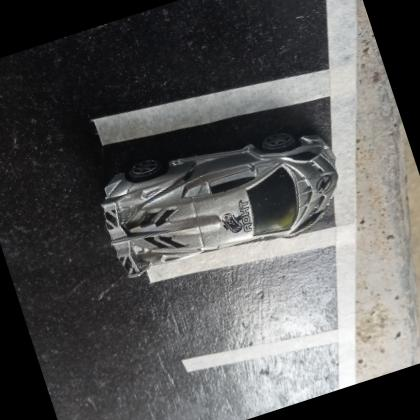Car: (100, 132, 338, 278)
